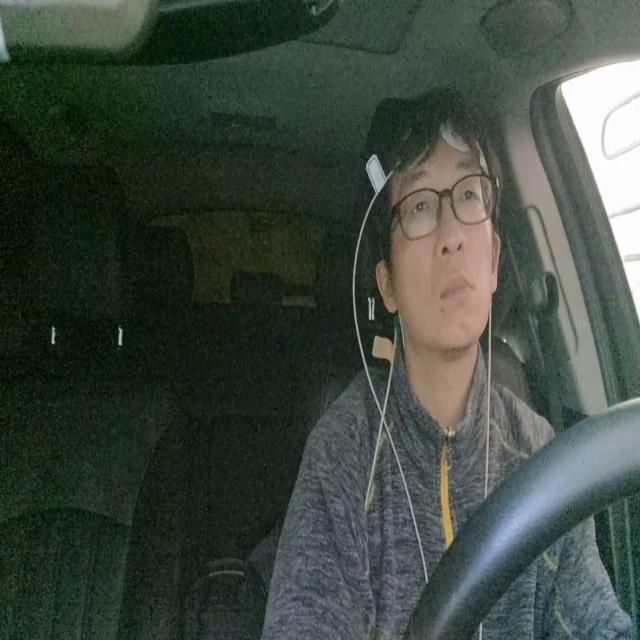Attentive: (371, 86, 504, 359)
